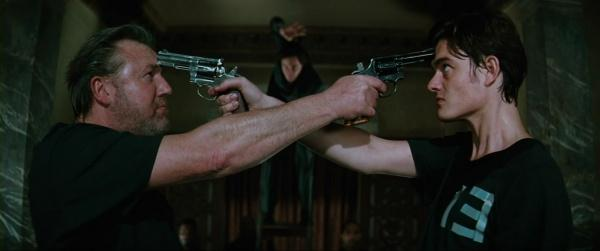Gun: (346, 46, 435, 127), (157, 50, 247, 113)
